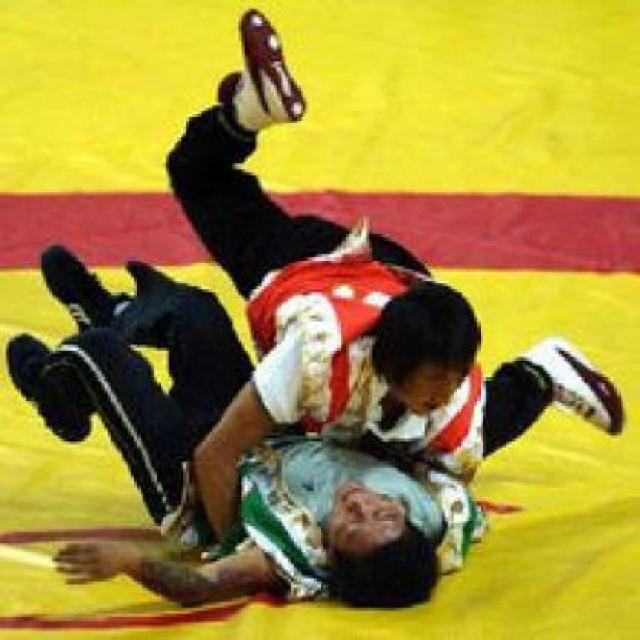fall: (23, 0, 606, 574)
